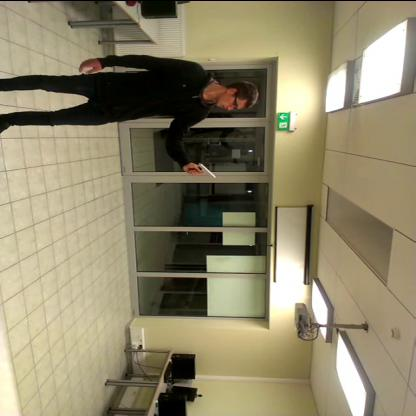Pistol: (175, 157, 223, 185)
